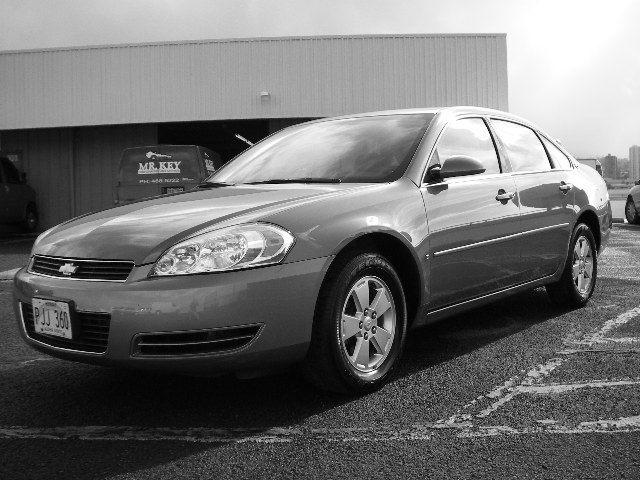car: (13, 108, 612, 386)
